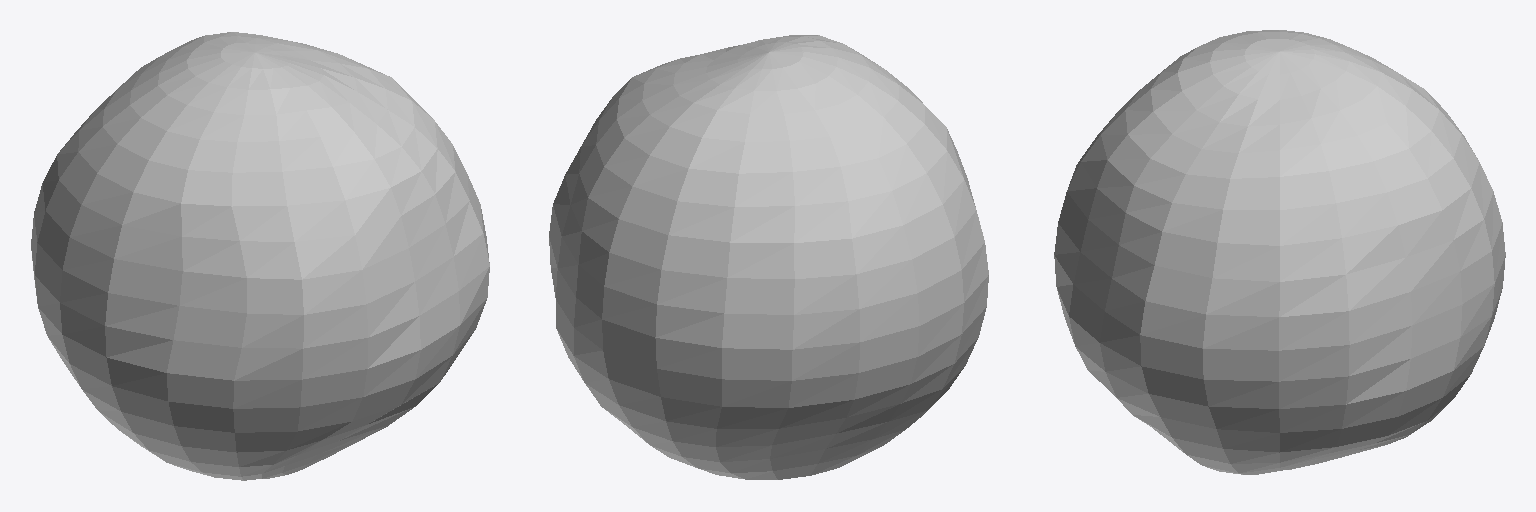
The model's file is ballDeformed.obj.
The picture shows the model from 3 angles: view 1: azimuth 30°, elevation 25°; view 2: azimuth 150°, elevation 25°; view 3: azimuth 270°, elevation 25°; orthographic projection.
Visible parts, largest first — view 1: pSphere1; view 2: pSphere1; view 3: pSphere1.
Boxes of the visible parts, box(x1,y1,x2,y2) form: pSphere1: box(31, 32, 489, 480); pSphere1: box(549, 35, 988, 479); pSphere1: box(1054, 30, 1505, 474).
Size of the model in its own units: 1 by 0.9955 by 0.9988.